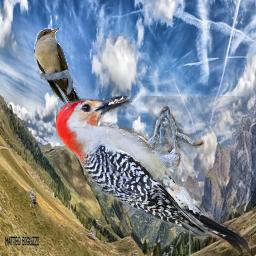Cuckoo: (34, 28, 92, 126)
Woodpecker: (56, 96, 251, 255)
